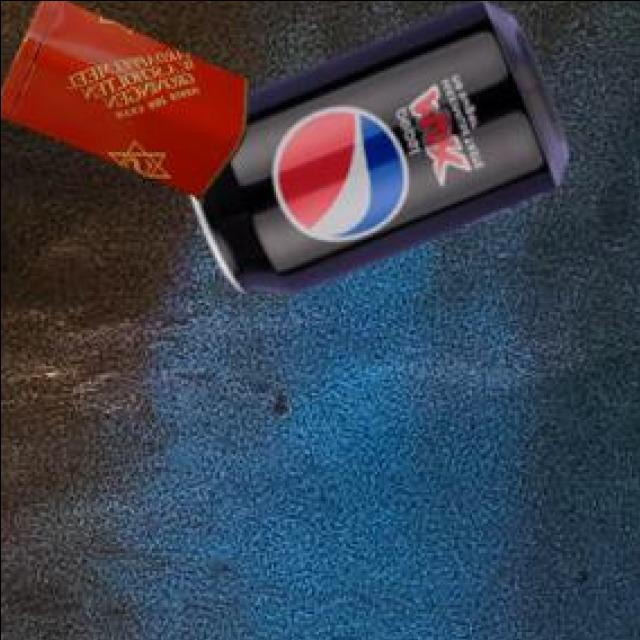logam: (193, 0, 571, 287), (0, 0, 251, 195)
